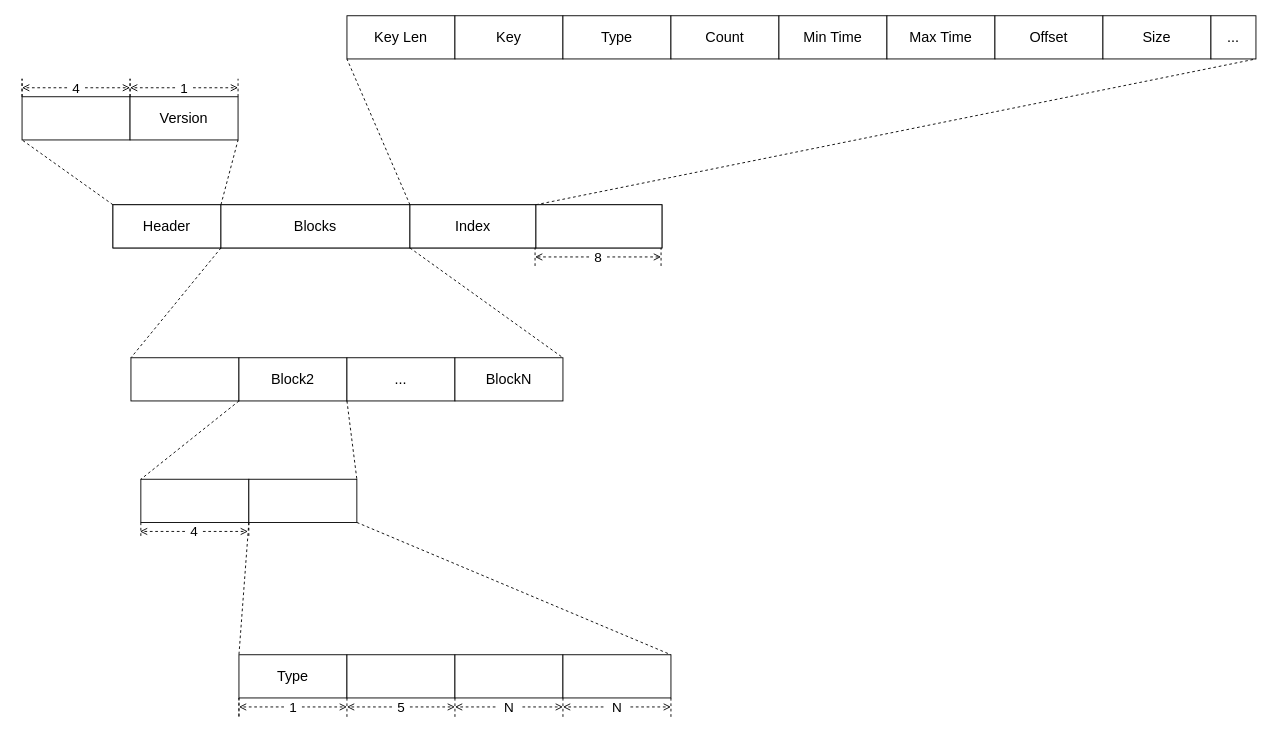
Image size: 1273x734. Some labels were removed from this diagram. The shapes that lost their labels are listed below. From the top down, each one's centre as x and y in pixels, then its label:
At (75,118): "Magic".
At (598,226): "Footer".
At (184,379): "Block1".
At (194,500): "CRC".
At (302,500): "Data".
At (400,676): "Len".
At (508,676): "Timestamps".
At (616,676): "Values".
